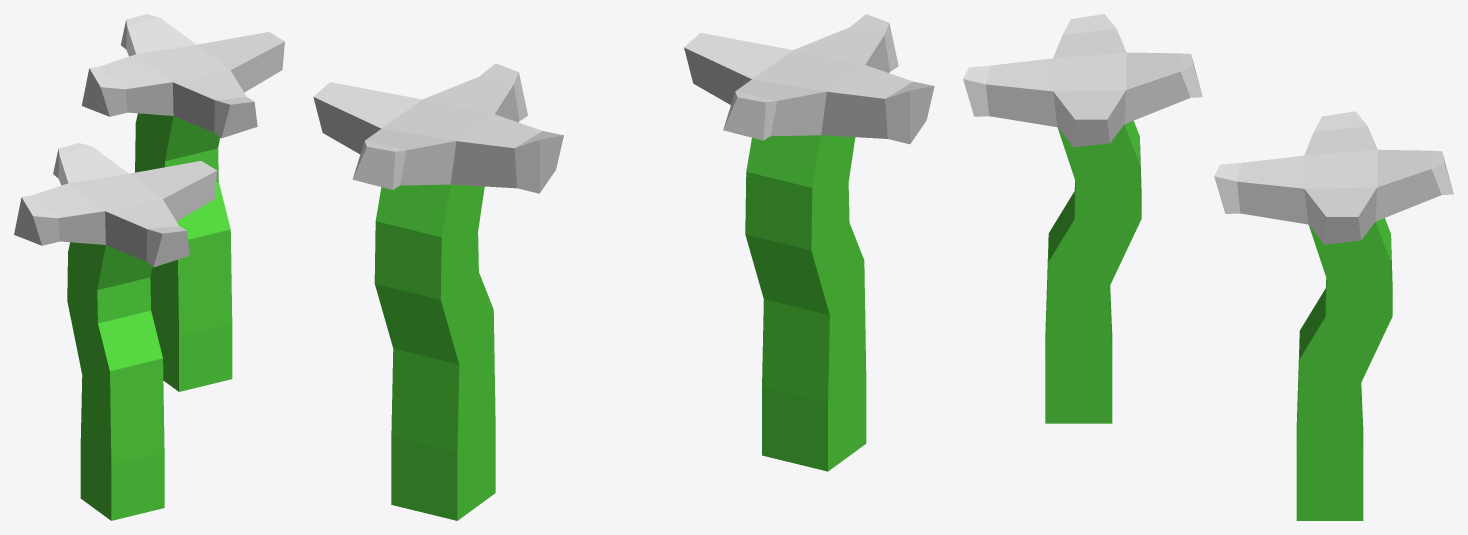
Rendered from flower_white_2.glb.
3 views of the same model, side by side, from view 1: azimuth 30°, elevation 25°; view 2: azimuth 150°, elevation 25°; view 3: azimuth 270°, elevation 25° (orthographic). The views are drawn at different scales.
Visible parts, largest first — view 1: Cube.001, Cube; view 2: Cube, Cube.001; view 3: Cube.001, Cube.
Boxes of the visible parts, x1,y1,x2,y2 form: Cube.001: (14,143,217,520); Cube: (81,14,284,391); Cube: (313,63,563,520); Cube.001: (684,14,934,471); Cube.001: (963,14,1202,423); Cube: (1214,111,1453,520).
Size of the model in its own units: 0.6944 by 0.5753 by 0.7338.
